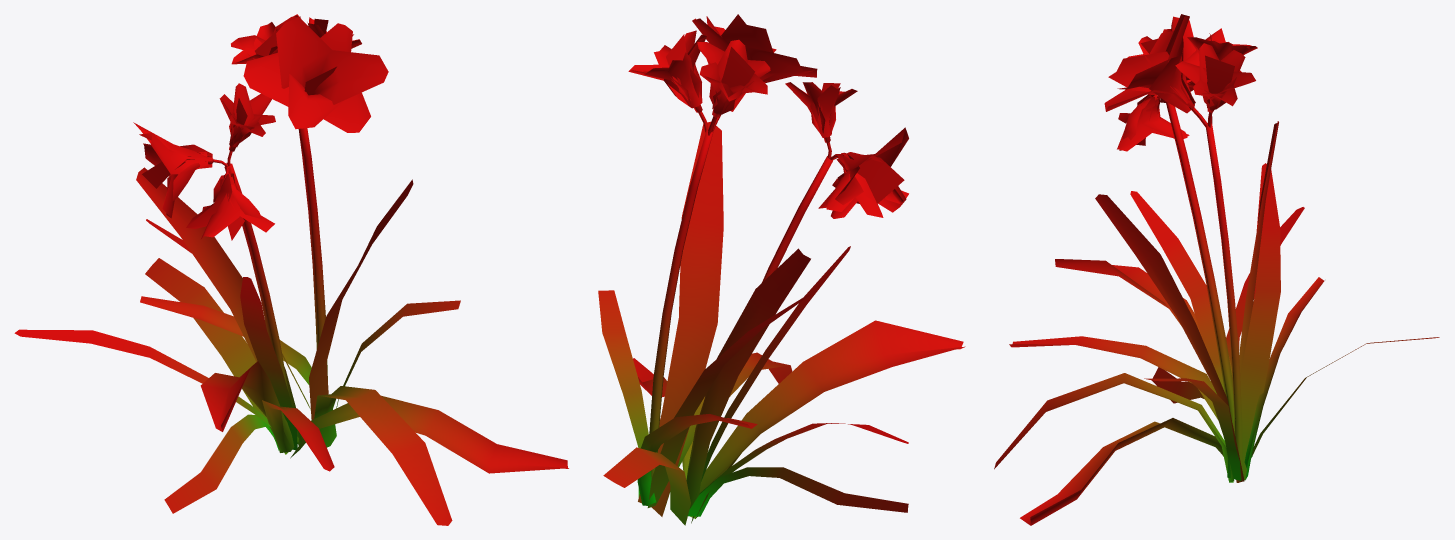
File: Var4_LOD1.fbx
3 views of the same model, side by side, from view 1: azimuth 30°, elevation 25°; view 2: azimuth 150°, elevation 25°; view 3: azimuth 270°, elevation 25° (orthographic). The views are drawn at different scales.
Visible parts, largest first — view 1: _9d48_Var4_LOD1; view 2: _9d48_Var4_LOD1; view 3: _9d48_Var4_LOD1.
Boxes of the visible parts, <box> form: _9d48_Var4_LOD1: <box>14,14,568,525</box>; _9d48_Var4_LOD1: <box>598,14,965,525</box>; _9d48_Var4_LOD1: <box>994,14,1439,525</box>.
Bounding box in the file's own units: 74 × 80.01 × 72.62.
